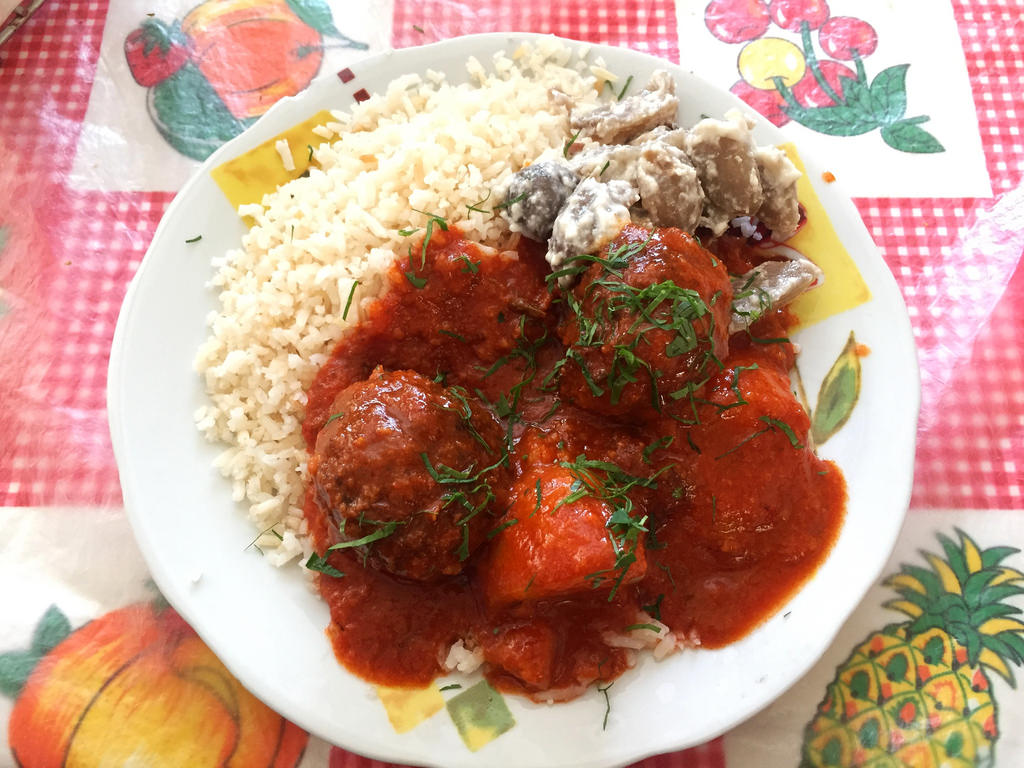meatballs: (324, 384, 501, 563), (560, 248, 727, 412)
plain rice: (283, 173, 381, 279)
